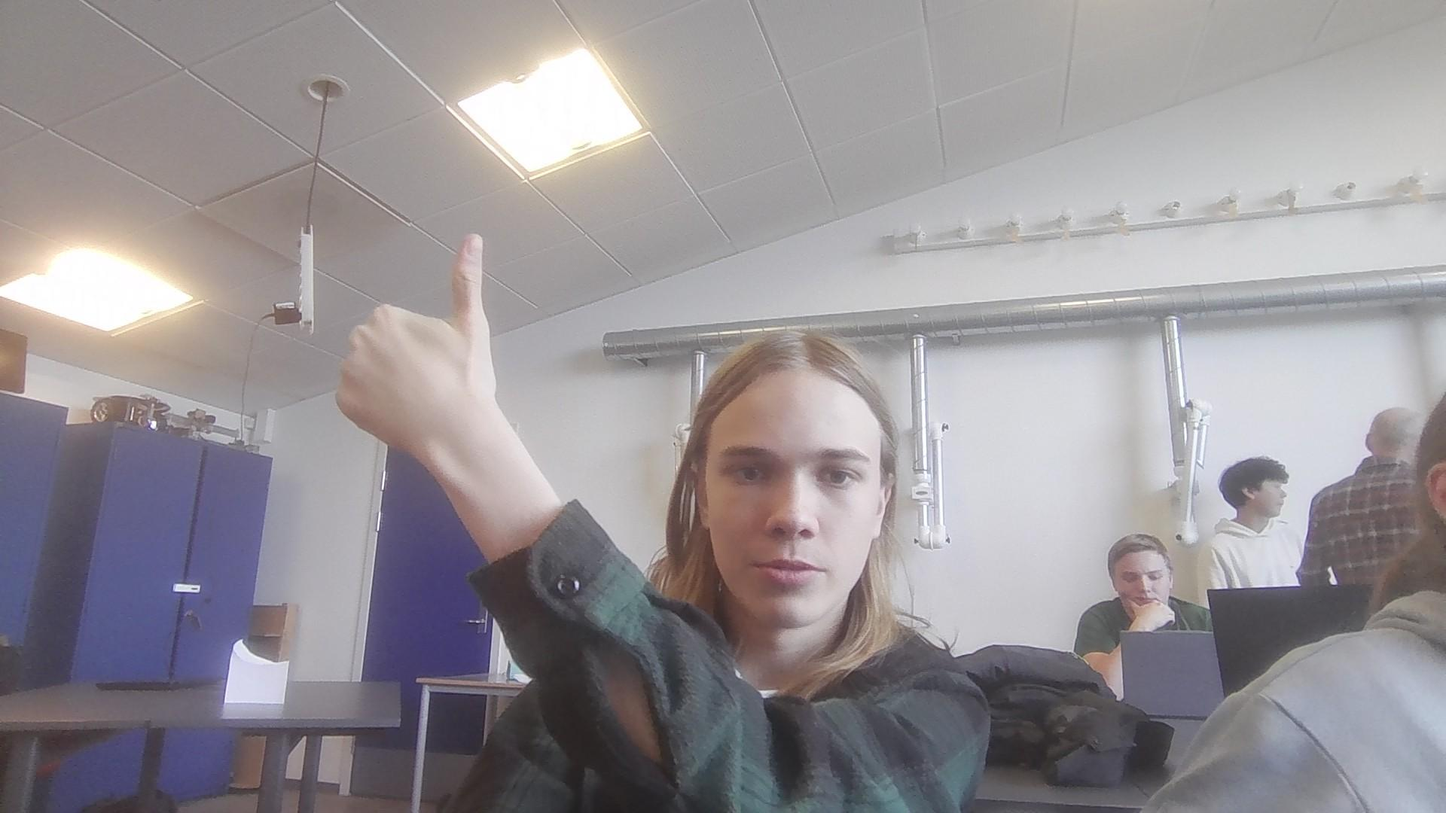thumbs up: (324, 230, 499, 459)
